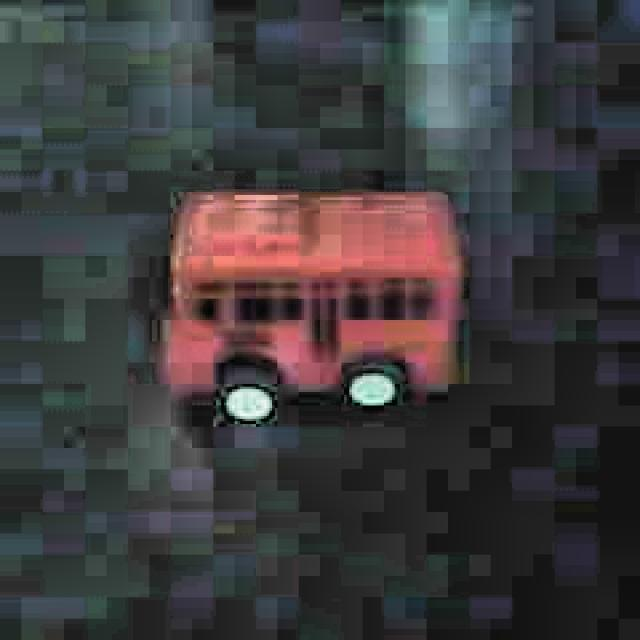bus: (156, 181, 460, 428)
